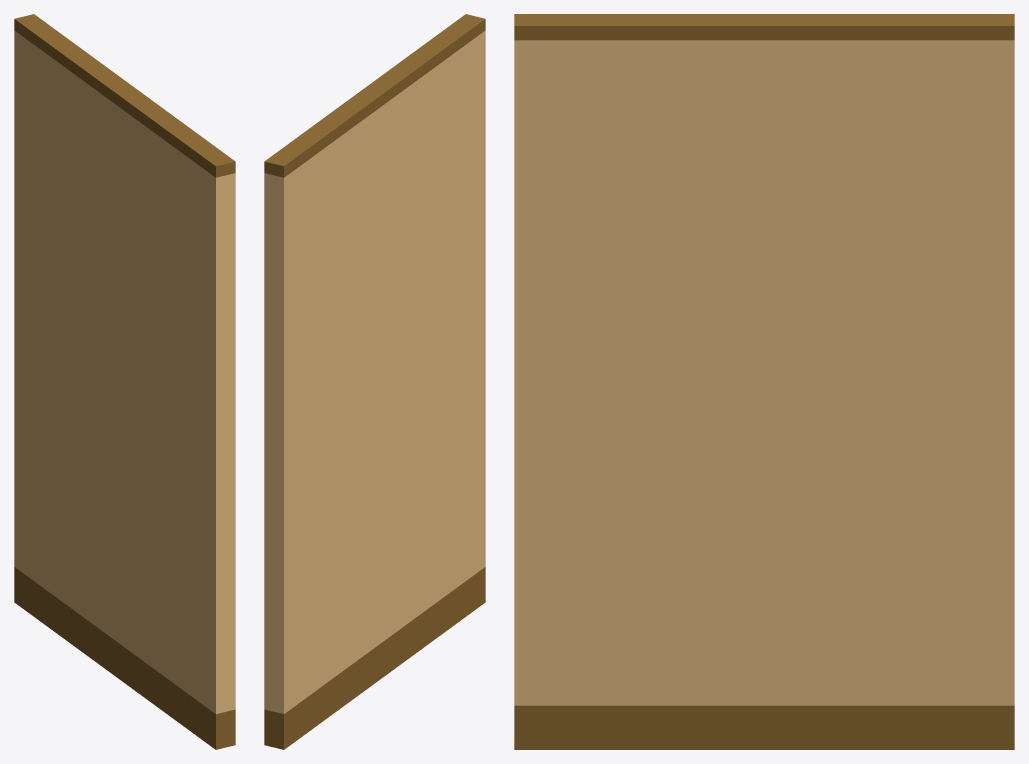
Rendered from basicWall.glb.
3 renders of one model, left to right at view 1: azimuth 30°, elevation 25°; view 2: azimuth 150°, elevation 25°; view 3: azimuth 270°, elevation 25°, orthographic. The views are drawn at different scales.
Parts seen in each view (by area): view 1: Cube; view 2: Cube; view 3: Cube.
Boxes of the visible parts, bbox=[...] form: Cube: bbox=[14, 14, 235, 749]; Cube: bbox=[264, 14, 485, 749]; Cube: bbox=[514, 14, 1014, 749].
Size of the model in its own units: 0.3097 by 8.75 by 5.48.
